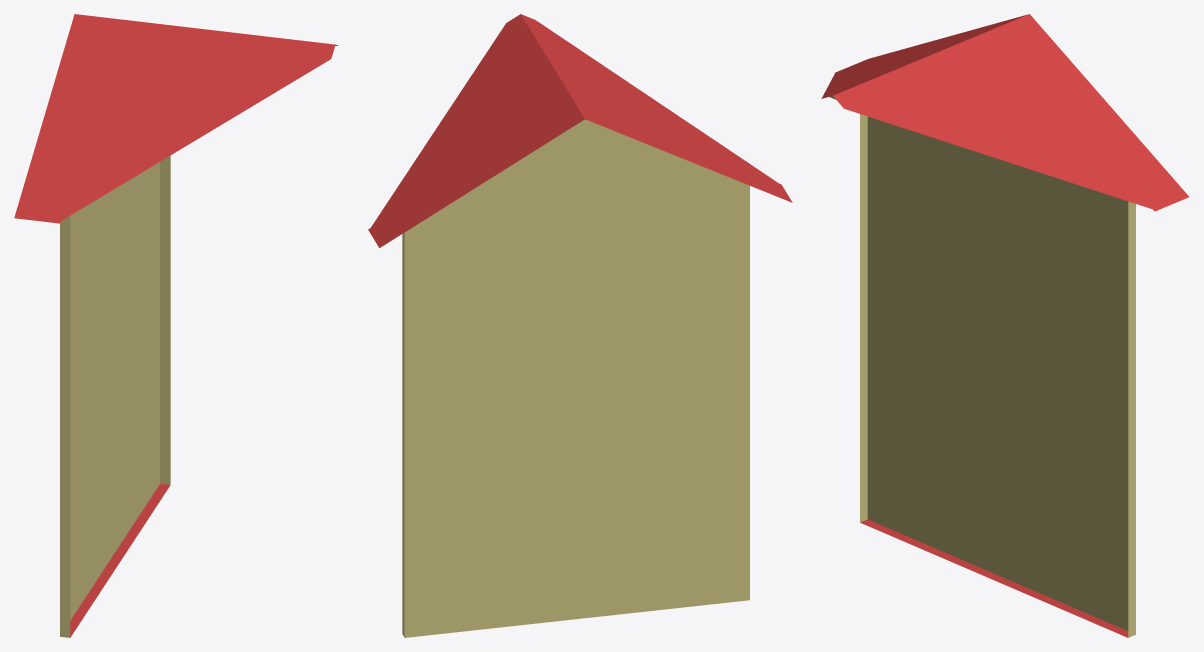
3 renders of one model, left to right at view 1: azimuth 30°, elevation 25°; view 2: azimuth 150°, elevation 25°; view 3: azimuth 270°, elevation 25°, orthographic. The views are drawn at different scales.
Parts seen in each view (by area): view 1: group_5, group_3, group_6, group_4; view 2: group_5, group_3, group_4; view 3: group_5, group_3, group_6, group_4.
Boxes of the visible parts, x1=… form: group_5: x1=60, y1=155, x2=170, y2=637; group_3: x1=14, y1=14, x2=338, y2=223; group_6: x1=70, y1=484, x2=170, y2=637; group_4: x1=14, y1=29, x2=334, y2=222; group_5: x1=402, y1=119, x2=749, y2=637; group_3: x1=368, y1=14, x2=792, y2=247; group_4: x1=369, y1=15, x2=789, y2=245; group_5: x1=829, y1=96, x2=1135, y2=637; group_3: x1=821, y1=14, x2=1188, y2=211; group_6: x1=860, y1=519, x2=1128, y2=637; group_4: x1=825, y1=25, x2=1185, y2=210.
Size of the model in its own units: 7.32 by 7.3 by 12.07.
